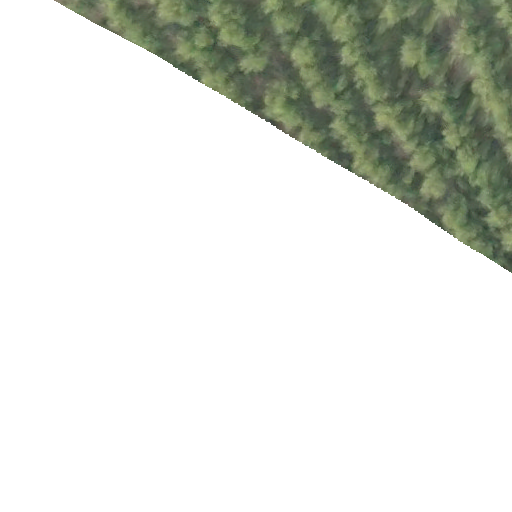eucalipto: (350, 53, 386, 87)
